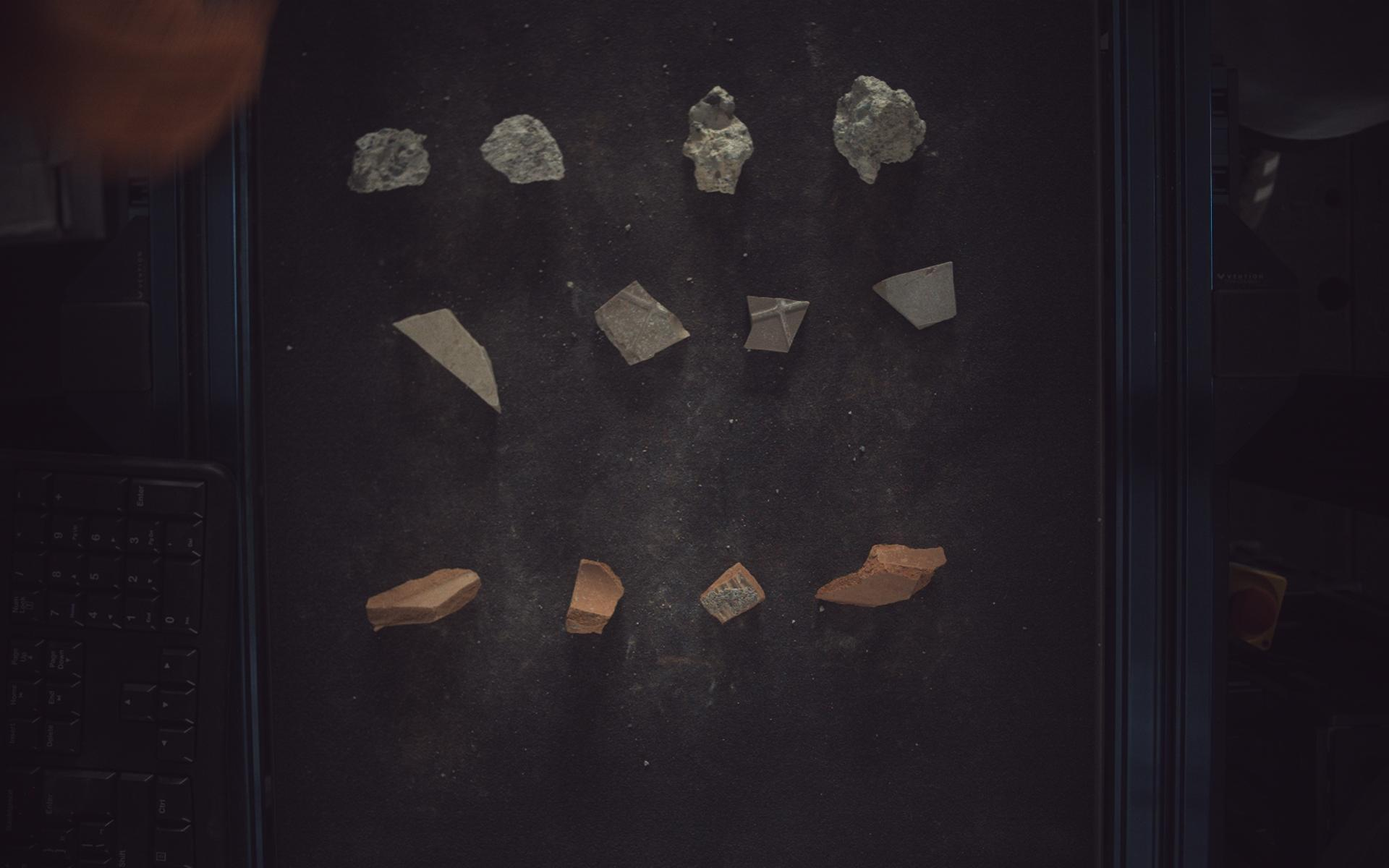brick: (817, 545, 948, 608), (366, 569, 481, 632), (566, 559, 625, 634), (701, 563, 766, 624)
concrete: (834, 75, 928, 183), (684, 85, 755, 193), (480, 114, 565, 183), (347, 127, 430, 192)
tile: (394, 308, 501, 412), (595, 281, 691, 365), (875, 262, 959, 329), (746, 295, 810, 352)
